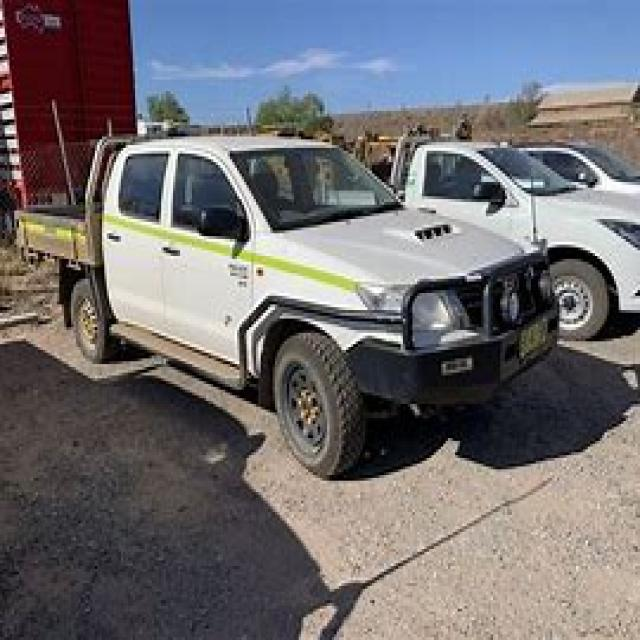light_vehicle: (14, 111, 583, 486)
